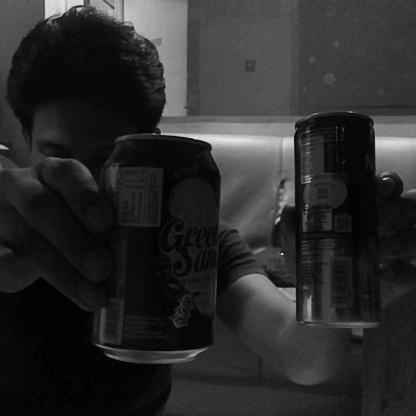alumunium_can: (94, 134, 223, 368), (294, 111, 381, 329)
